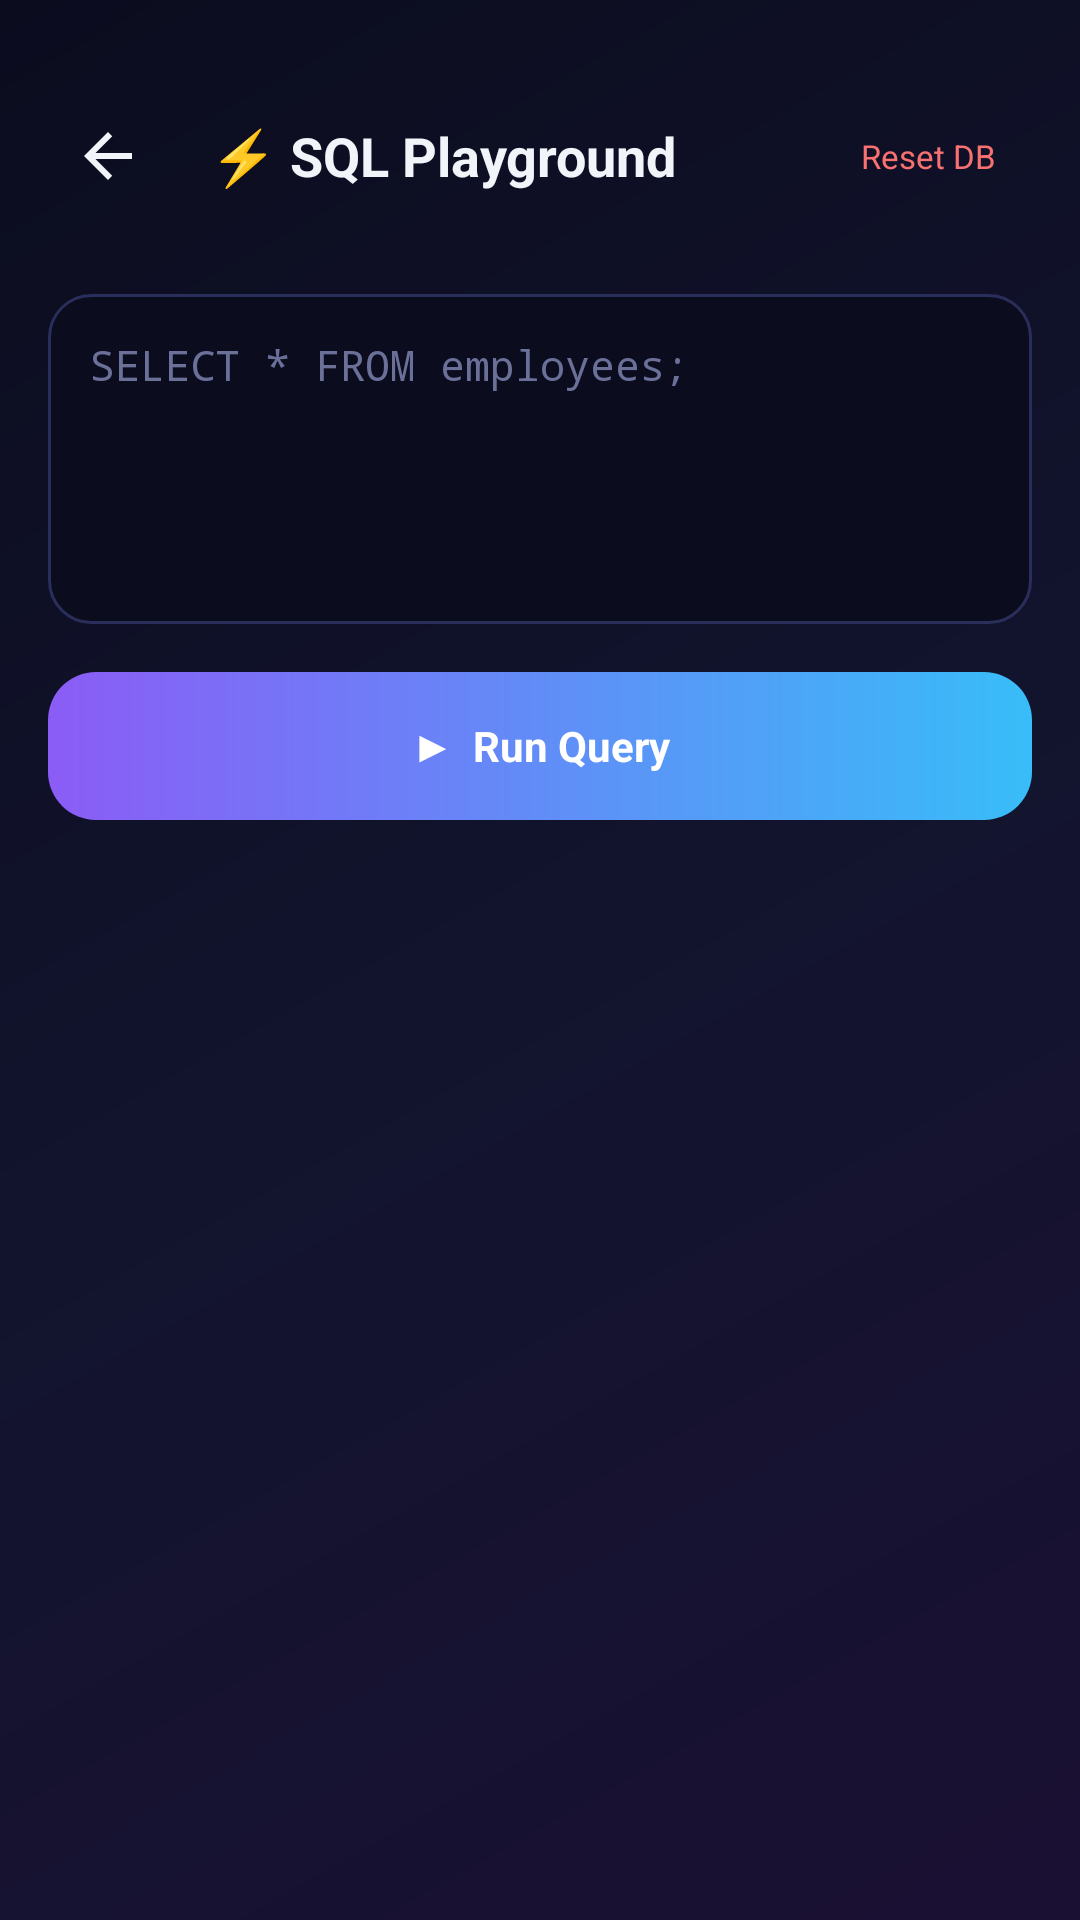

Point at icon controls on the screen. Image size 1080px x 1920px, points as (x=x, y=y).
Back: (x=108, y=156)
